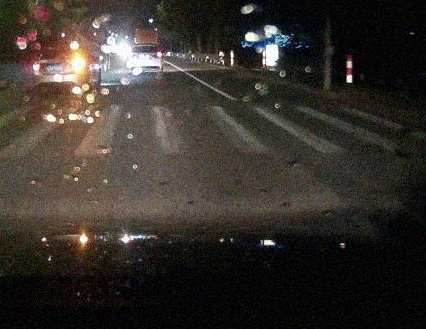L_light: (33, 63, 47, 70), (131, 54, 138, 57)
R_light: (71, 59, 85, 67), (152, 53, 161, 58)
T_light: (57, 49, 64, 51), (143, 45, 149, 47)
night-no: (129, 44, 162, 73)
night-right: (32, 46, 86, 93)
